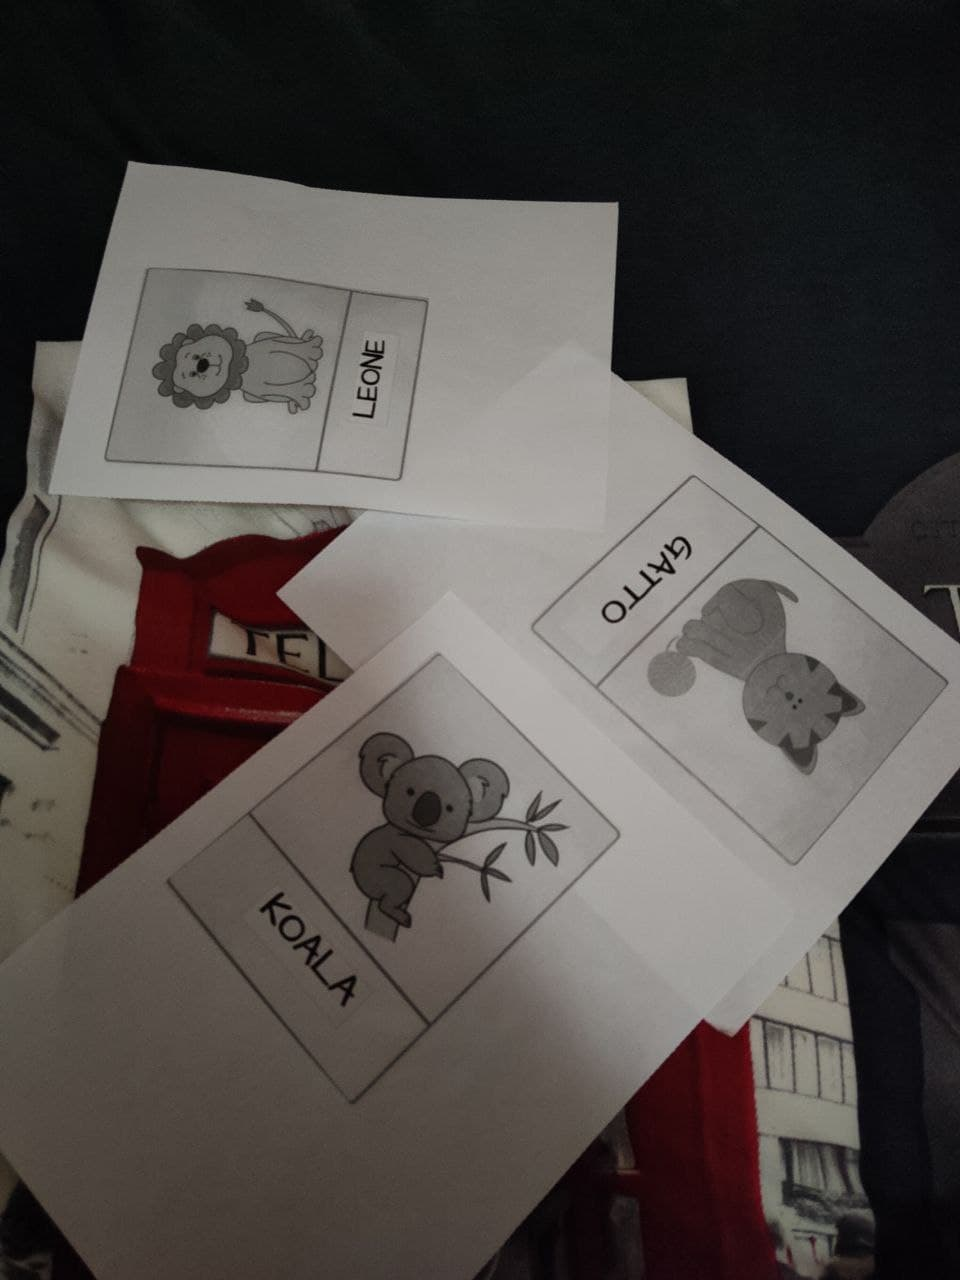gatto: (588, 512, 875, 787)
koala: (251, 733, 572, 1033)
leone: (133, 267, 419, 481)
